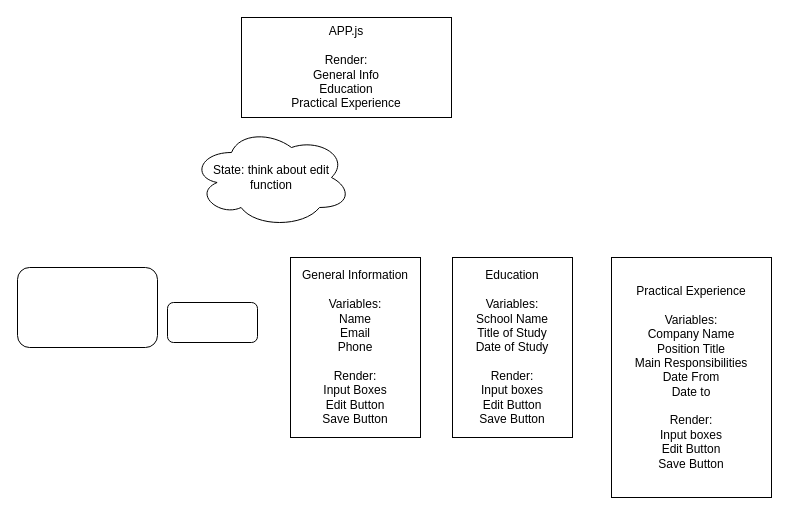
This 789x515 diagram has some shape labels left out. The shapes that lost their labels are listed below. From the top down, each one's centre as x and y in pixels, then its label:
the point at 87,307: Edit Button when clicked fill in the form with the stored values
the point at 212,322: Save Button
